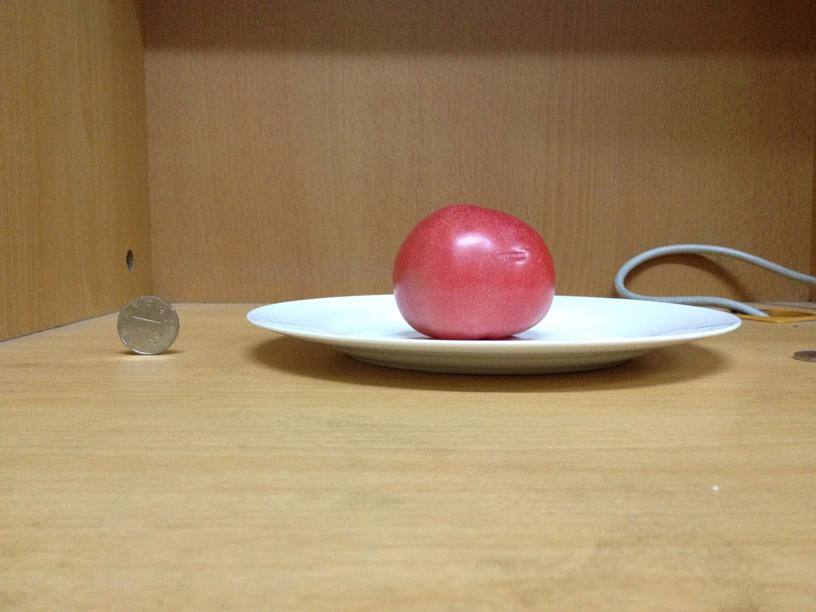coin: (114, 294, 179, 354)
tomato: (393, 207, 557, 339)
